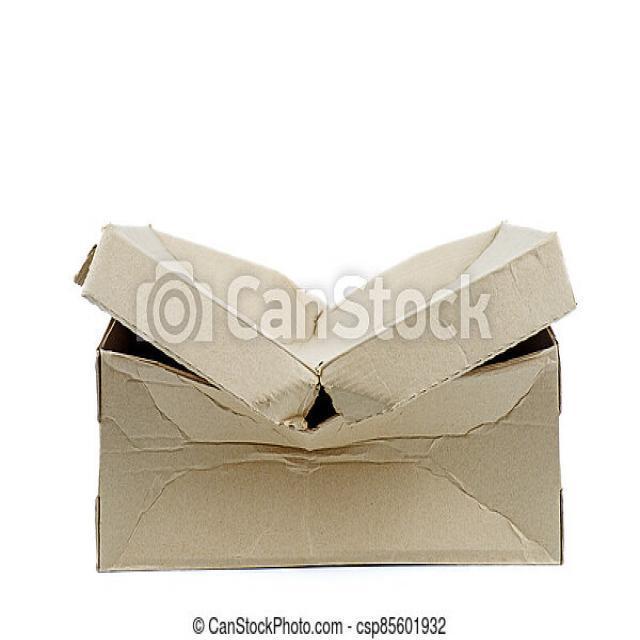hole: (288, 361, 362, 439)
